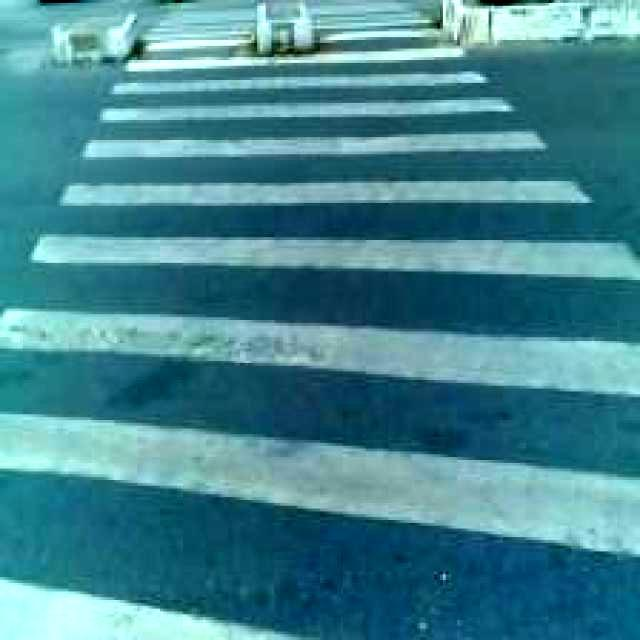crosswalk: (0, 5, 634, 625)
